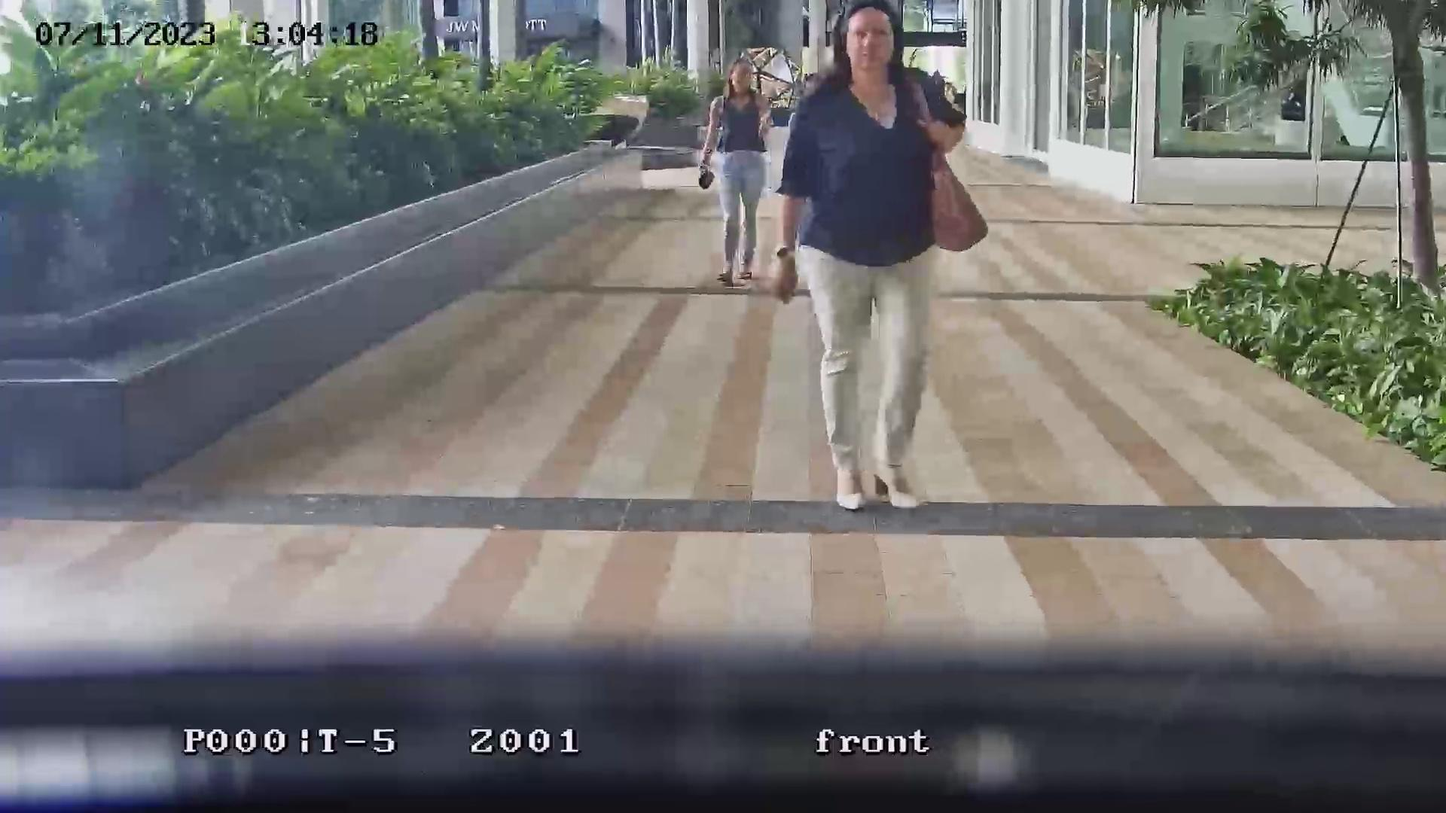person: (774, 2, 969, 515), (697, 57, 775, 288)
